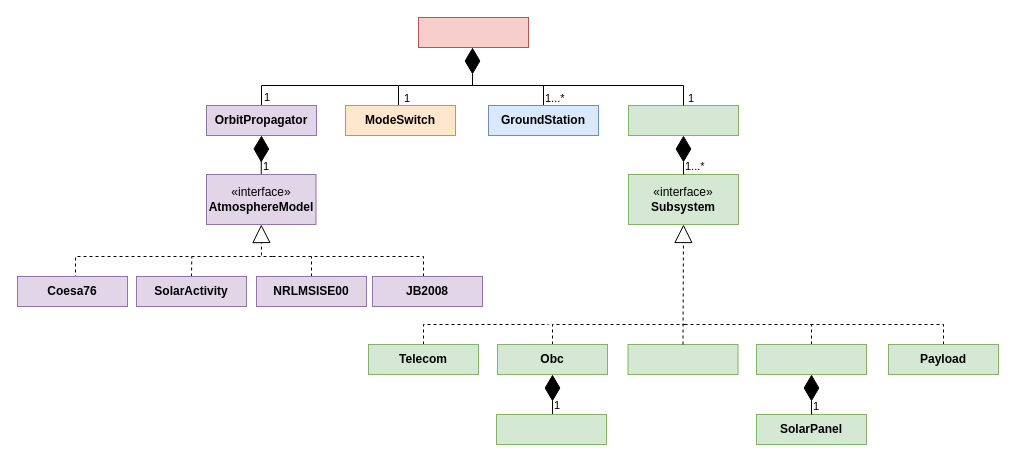
Some shapes in this 1016 by 462 pixel diagram are drawn without their labels. Here are the shapes that lost their labels. From the top down, the centre of each, then its label:
point (473, 32): Simulation
point (683, 120): Spacecraft
point (682, 359): Adcs
point (811, 359): Eps
point (551, 429): DataStorage
